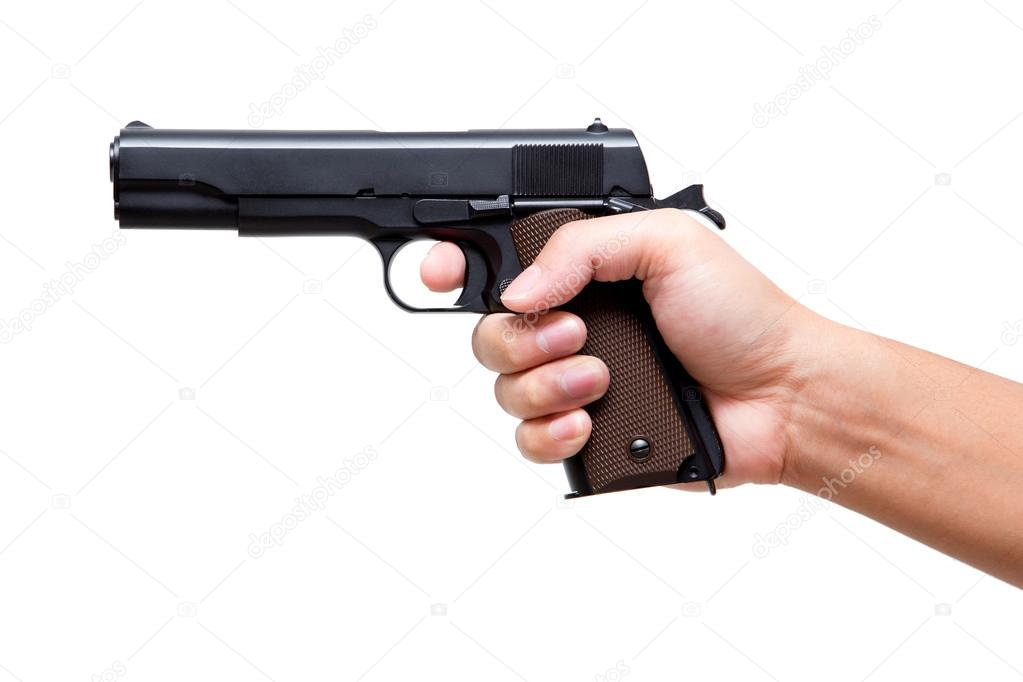pistol: (77, 88, 823, 568)
